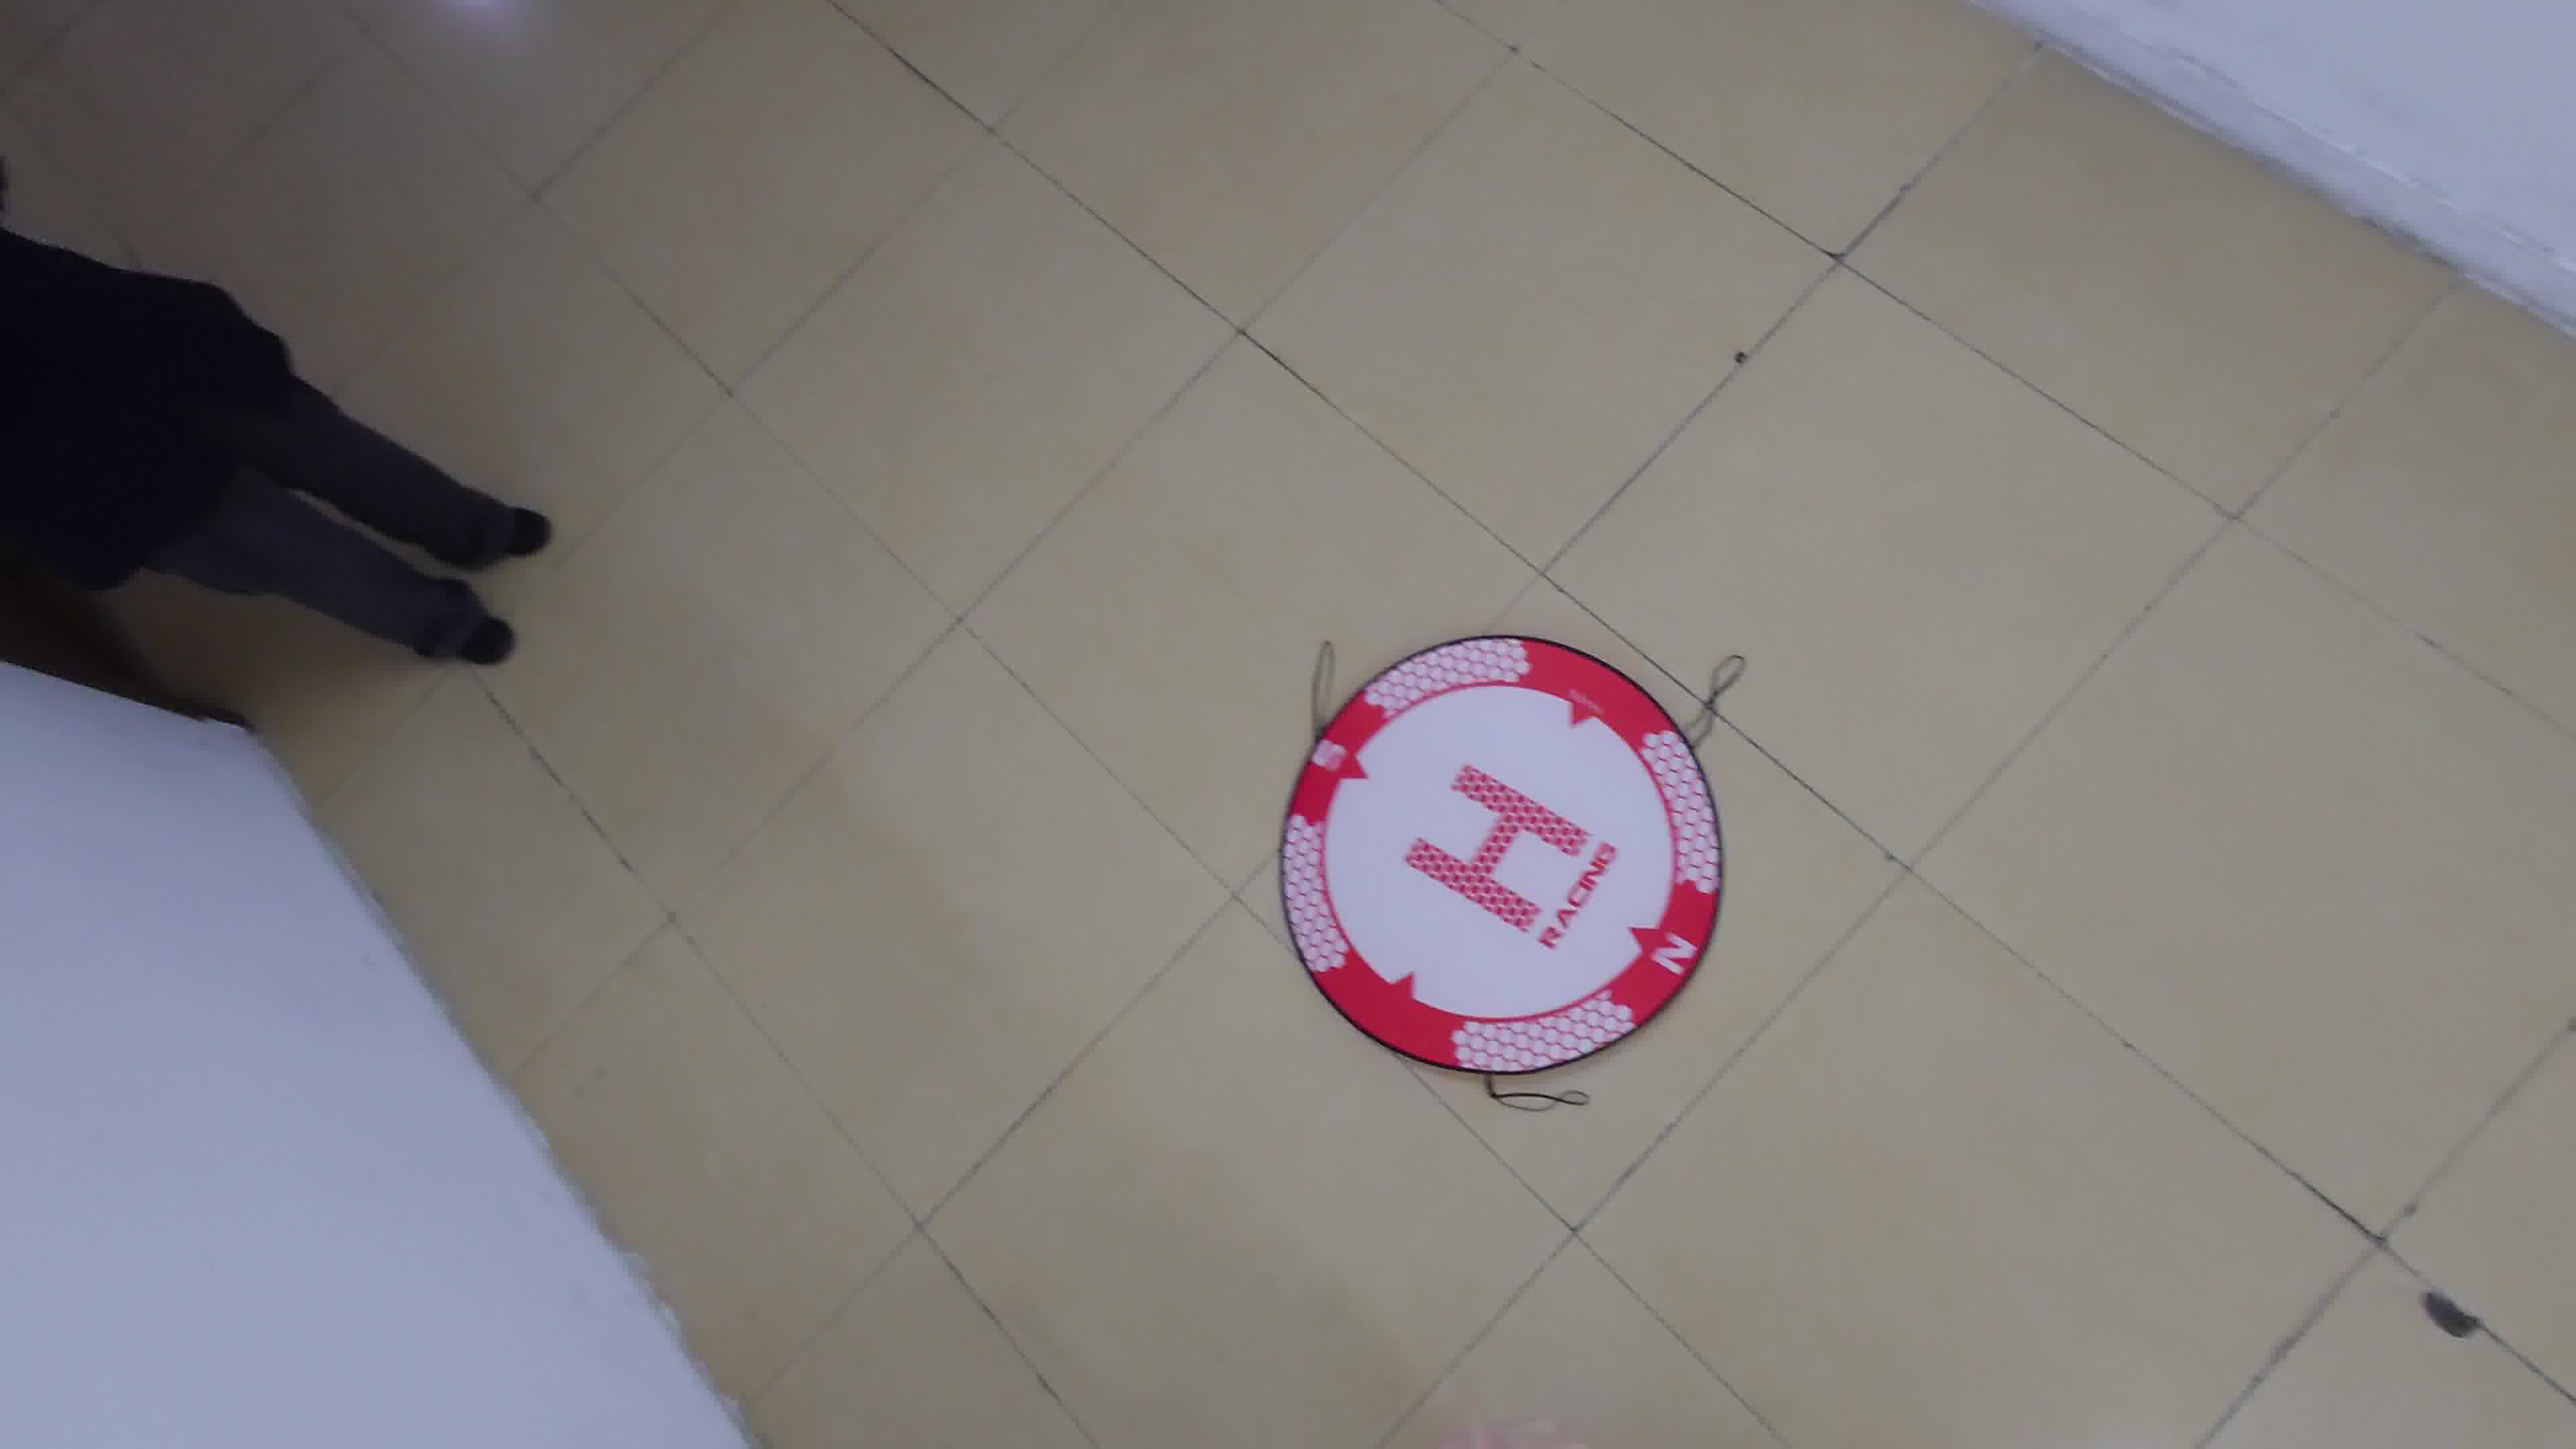H: (1403, 763, 1594, 934)
